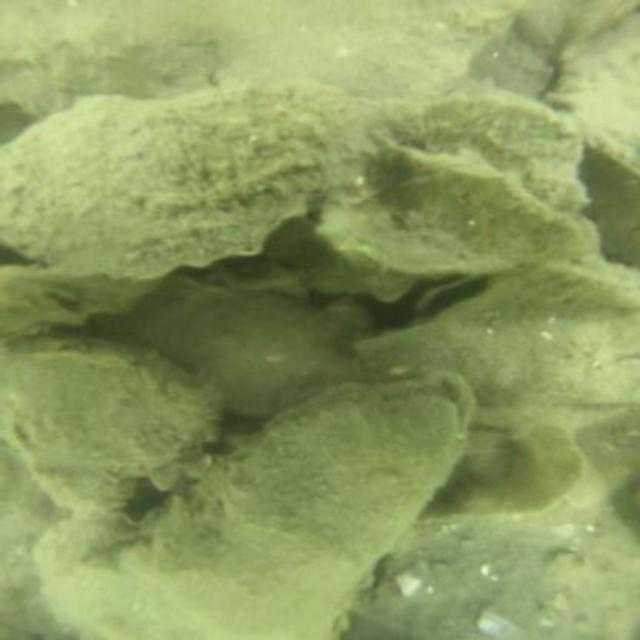Oyster-Closed: (133, 368, 480, 638), (7, 88, 381, 281), (368, 267, 634, 434), (6, 326, 220, 508), (314, 147, 603, 281), (117, 286, 347, 412), (381, 85, 578, 205), (35, 498, 201, 638), (411, 413, 589, 523), (549, 5, 636, 171), (524, 257, 632, 310)
Oyster-Open: (404, 270, 504, 330)
